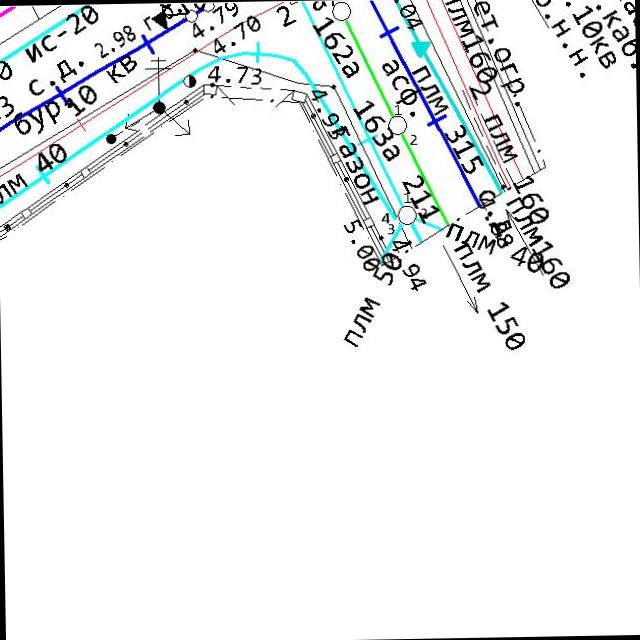asphalt: (380, 56, 422, 118)
mark: (149, 8, 170, 33)
well: (394, 203, 419, 227), (384, 112, 408, 136), (329, 0, 353, 23)
